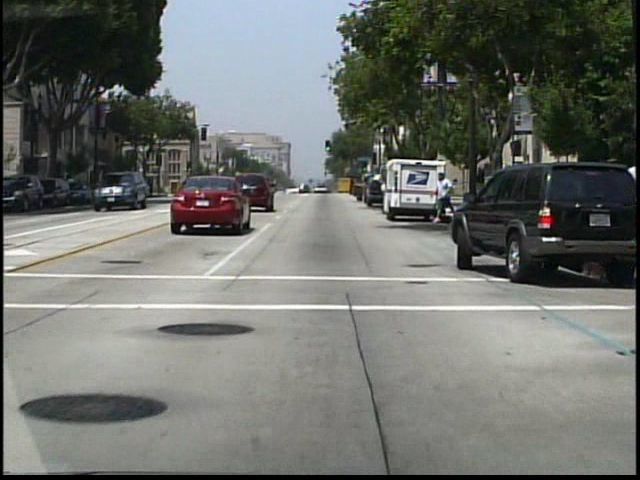person: (428, 170, 455, 221), (352, 175, 369, 204)
